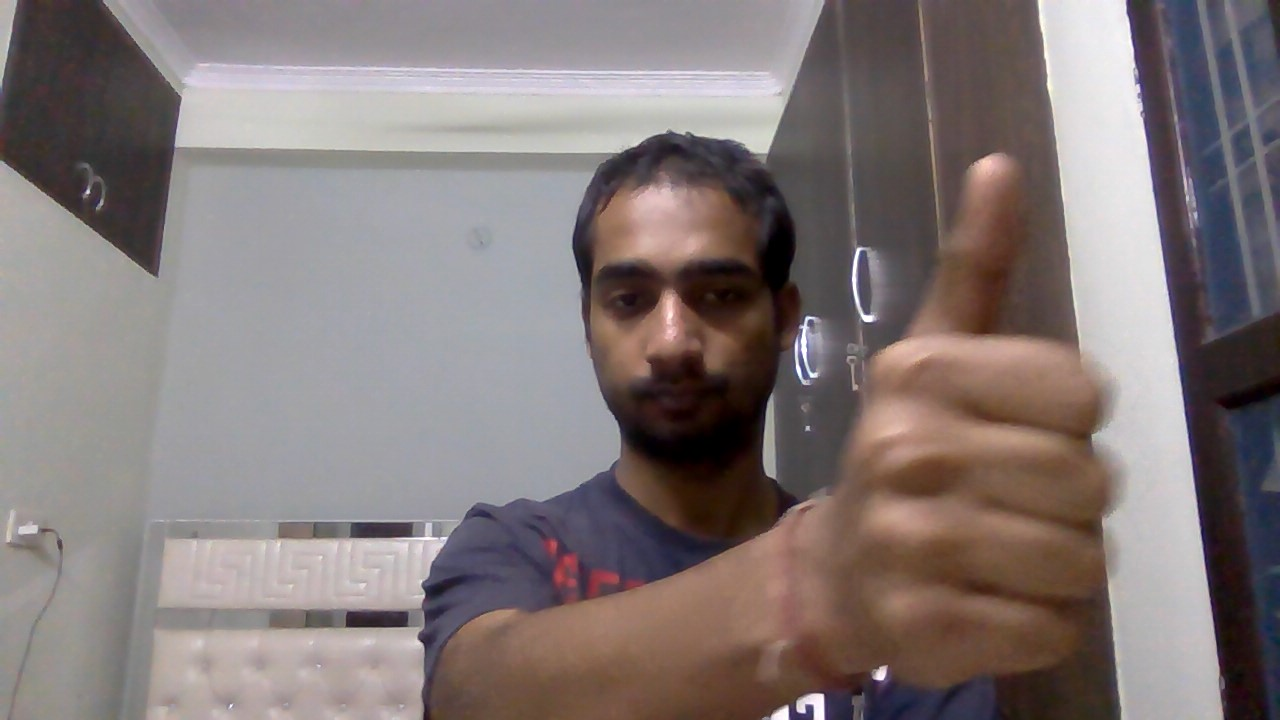Save: (793, 142, 1131, 696)
